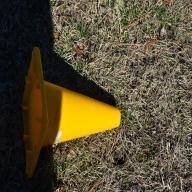cone: (20, 47, 120, 179)
